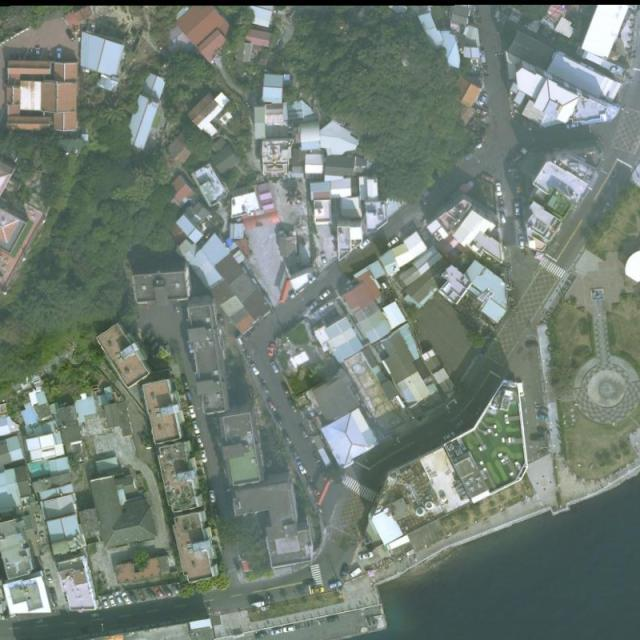vehicle: (305, 299, 321, 316), (258, 379, 270, 397), (386, 236, 401, 250), (442, 430, 457, 444), (287, 397, 299, 414), (281, 430, 293, 447), (143, 586, 157, 600), (358, 238, 373, 251), (250, 362, 262, 378), (299, 422, 310, 439), (535, 425, 550, 437), (478, 91, 490, 106), (339, 565, 351, 580), (297, 462, 309, 477), (194, 434, 205, 450), (187, 405, 198, 421), (327, 580, 344, 590), (318, 289, 331, 302), (154, 586, 166, 600), (266, 343, 277, 358), (122, 591, 133, 606), (135, 587, 146, 602), (182, 375, 191, 393), (290, 446, 300, 462), (530, 434, 546, 444), (273, 413, 285, 426), (310, 586, 325, 596), (282, 381, 291, 397), (359, 552, 375, 561), (114, 590, 123, 606), (536, 411, 549, 422), (270, 627, 284, 637), (127, 590, 137, 604), (66, 28, 76, 42), (494, 181, 503, 196), (270, 360, 279, 375), (282, 625, 297, 634), (101, 595, 110, 610), (267, 400, 278, 412), (199, 450, 209, 463), (513, 203, 522, 217), (162, 585, 172, 597), (250, 600, 267, 607), (171, 583, 180, 596), (518, 236, 526, 250), (525, 342, 540, 349), (56, 47, 63, 62), (255, 630, 268, 638), (109, 594, 116, 608), (500, 212, 507, 226), (321, 254, 327, 270), (326, 616, 339, 623), (192, 421, 199, 434), (209, 490, 216, 502), (566, 122, 578, 129), (35, 46, 41, 58)
